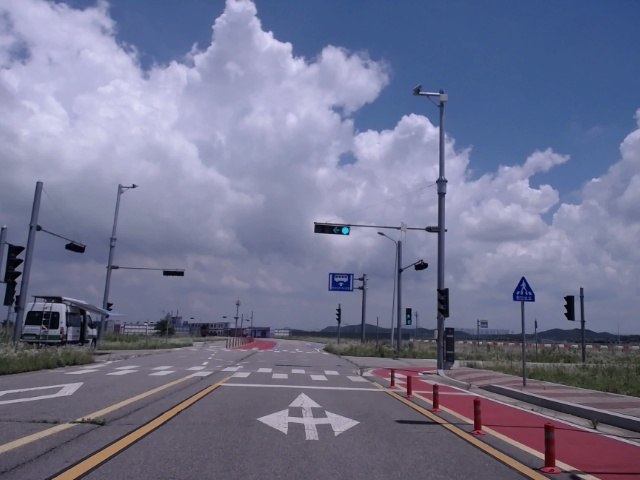all_green_4: (315, 223, 349, 237)
